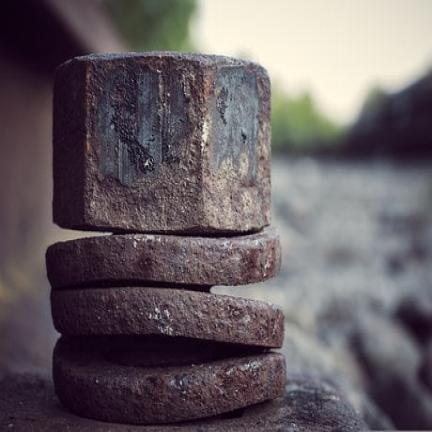karat: (53, 55, 270, 233), (53, 337, 284, 423), (47, 227, 280, 290), (52, 287, 283, 347)
